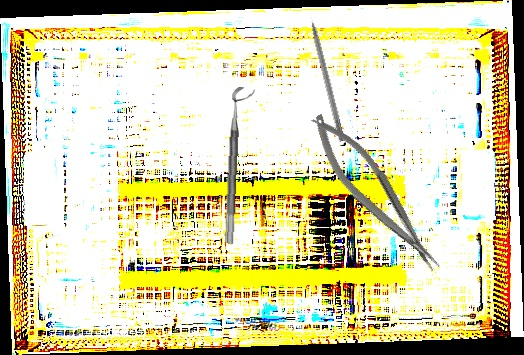Fixation Ring: (223, 86, 256, 245)
Hook Surgical: (305, 4, 347, 142)
Needle Holder: (301, 104, 448, 284)
